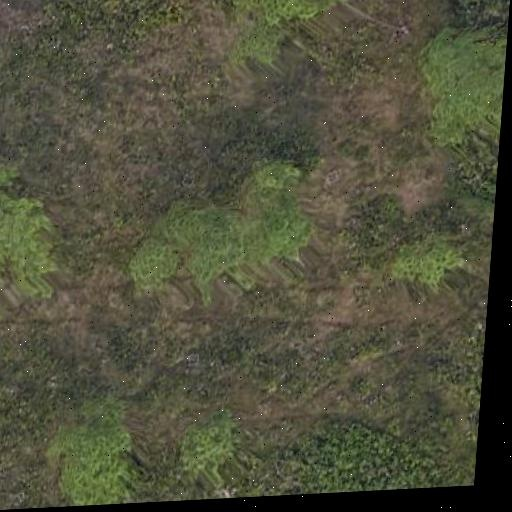tree-top: (117, 158, 328, 299), (401, 18, 509, 149), (38, 396, 146, 508), (204, 0, 374, 70), (0, 189, 60, 322), (171, 413, 246, 478), (387, 227, 460, 290)
